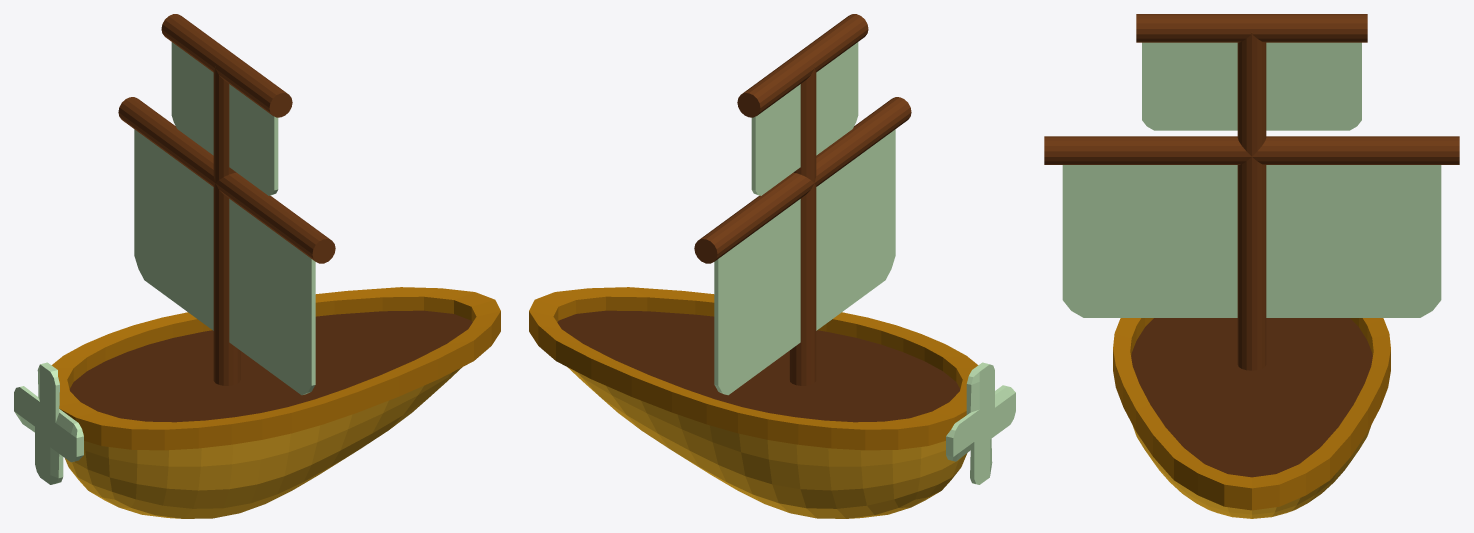
The model's file is HeroShip_v01.fbx.
3 views of the same model, side by side, from view 1: azimuth 30°, elevation 25°; view 2: azimuth 150°, elevation 25°; view 3: azimuth 270°, elevation 25° (orthographic). The views are drawn at different scales.
Visible parts, largest first — view 1: HeroShip_1, Hero_Prop_1; view 2: HeroShip_1, Hero_Prop_1; view 3: HeroShip_1.
Part boxes in pixels (left/top/right/bottom): HeroShip_1: left=51, top=14, right=500, bottom=518; Hero_Prop_1: left=14, top=362, right=83, bottom=484; HeroShip_1: left=529, top=14, right=978, bottom=518; Hero_Prop_1: left=946, top=362, right=1015, bottom=484; HeroShip_1: left=1044, top=14, right=1459, bottom=518.
Bounding box in the file's own units: 4.1 × 3.83 × 3.06.
